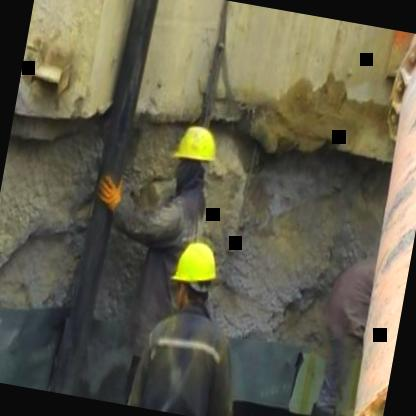helmet: (162, 233, 224, 318), (162, 118, 225, 196)
